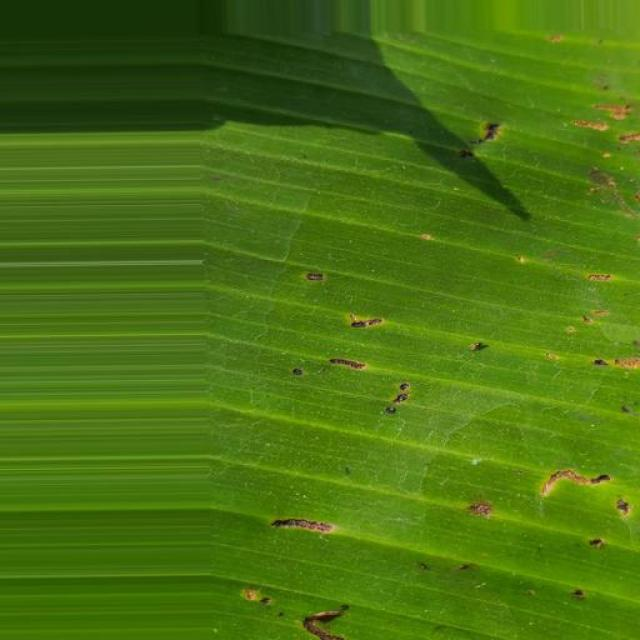Black_rot: (206, 112, 640, 640)
